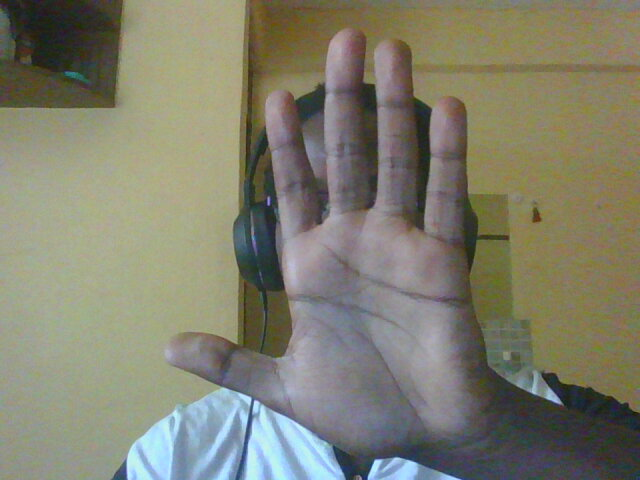Hello: (158, 26, 536, 470)
